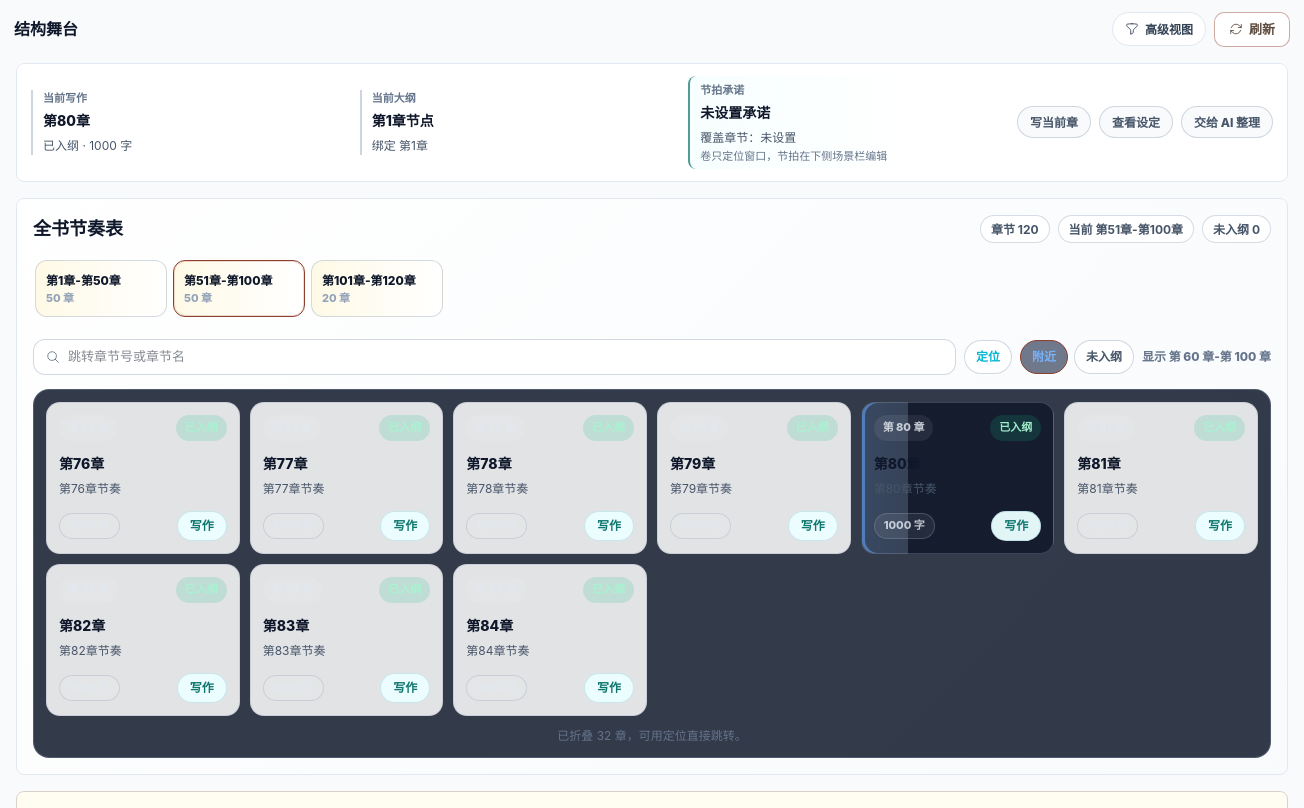
Test: StructureStageView › 长篇默认按 50 章分段，并只展示当前章节附近窗口
Click the button with class "structure-stage-view__segment-node" showing "第101章-第120章 20 章". click: (377, 288)
box: top-left (311, 260), bottom-right (443, 317)
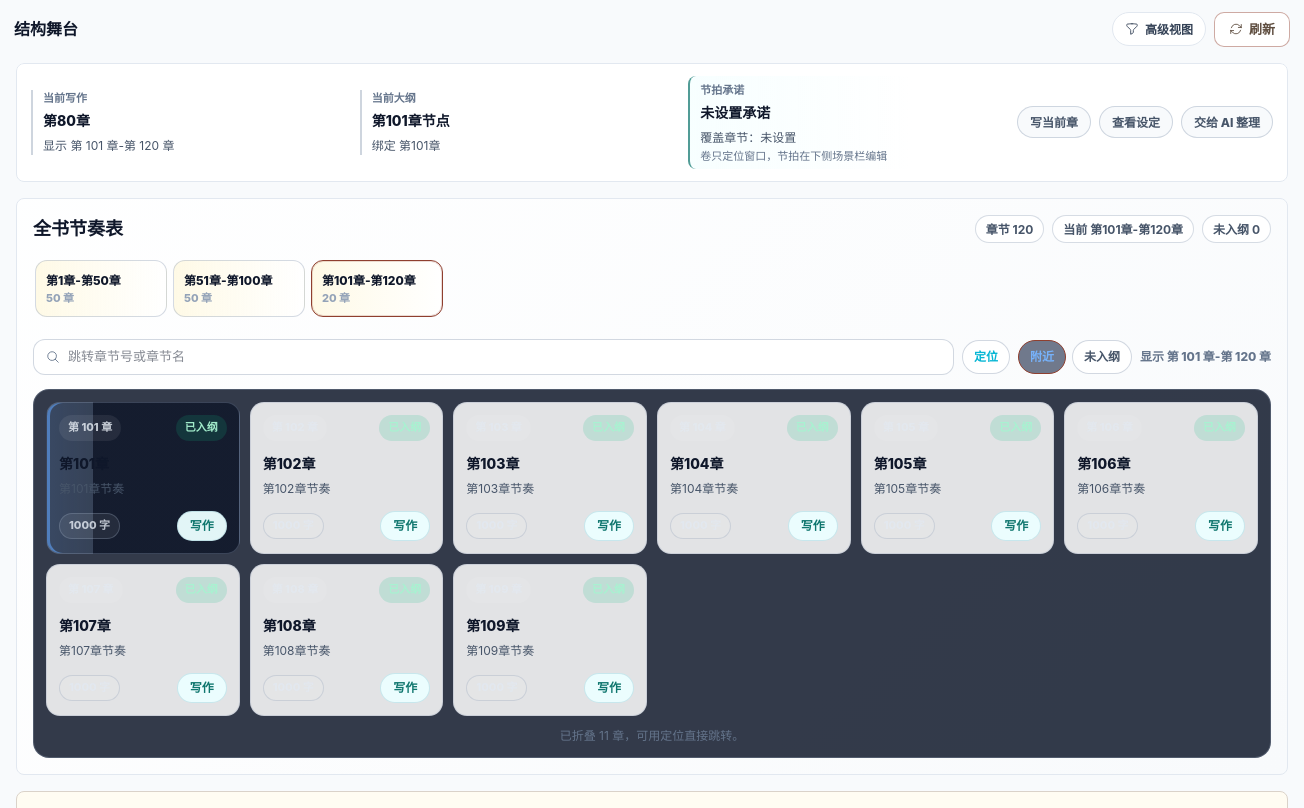
Expected: the text "第101章" is shown, top-left (372, 112), bottom-right (450, 130)
Result: the text "第 101 章-第 120 章" is shown at top-left (43, 138), bottom-right (174, 153)
